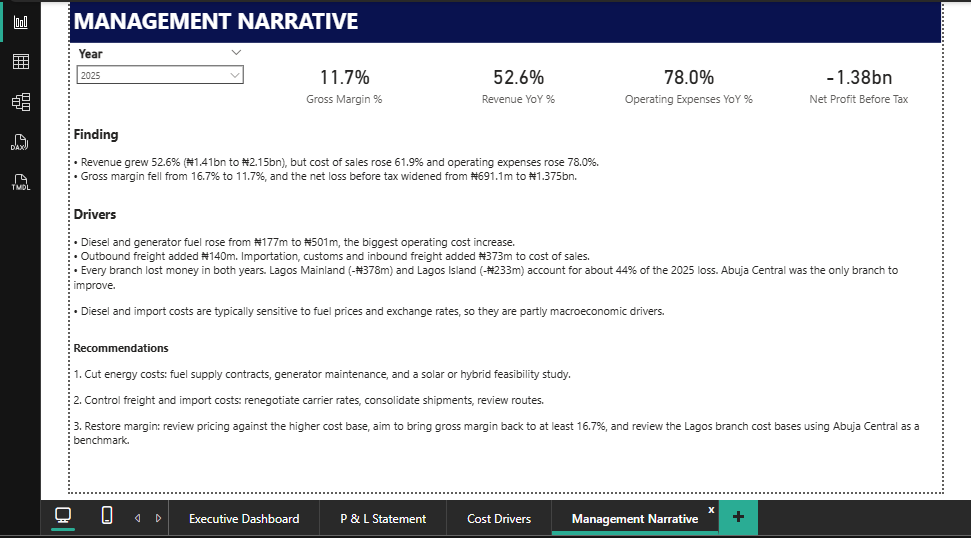

The page's visual inventory and layout, read from the dashboard file:
{"tool":"powerbi","page":{"name":"Management Narrative","canvas":[1280,720],"ordinal":3},"visuals":[{"type":"textbox","box":[0,0,1279.8,60.2],"z":0},{"type":"slicer","fields":{"Values":["DimDate.Year"]},"box":[0,60,265,116.7],"z":1000},{"type":"card","fields":{"Values":["FactFinancialTransactions.Gross Margin %"]},"box":[281.7,60,241.7,116.7],"z":2000},{"type":"card","fields":{"Values":["FactFinancialTransactions.Revenue YoY %"]},"box":[538.3,60,241.7,116.7],"z":3000},{"type":"card","fields":{"Values":["FactFinancialTransactions.Operating Expenses YoY %"]},"box":[793.3,60,231.7,116.7],"z":4000},{"type":"card","fields":{"Values":["FactFinancialTransactions.Net Profit Before Tax"]},"box":[1036.7,60,243.3,116.7],"z":5000},{"type":"textbox","box":[0,176.3,1279.8,533.4],"z":6000}]}

Visuals, with their boxes on the page's 1280x720 design canvas (x1, y1, x2, y2). These are canvas units, not pixel positions in the 971x538 screenshot, which may show the page scaled, cropped or inside an application window:
textbox: locate(0, 0, 1280, 60)
slicer - DimDate.Year: locate(0, 60, 265, 177)
card - FactFinancialTransactions.Gross Margin %: locate(282, 60, 523, 177)
card - FactFinancialTransactions.Revenue YoY %: locate(538, 60, 780, 177)
card - FactFinancialTransactions.Operating Expenses YoY %: locate(793, 60, 1025, 177)
card - FactFinancialTransactions.Net Profit Before Tax: locate(1037, 60, 1280, 177)
textbox: locate(0, 176, 1280, 710)
